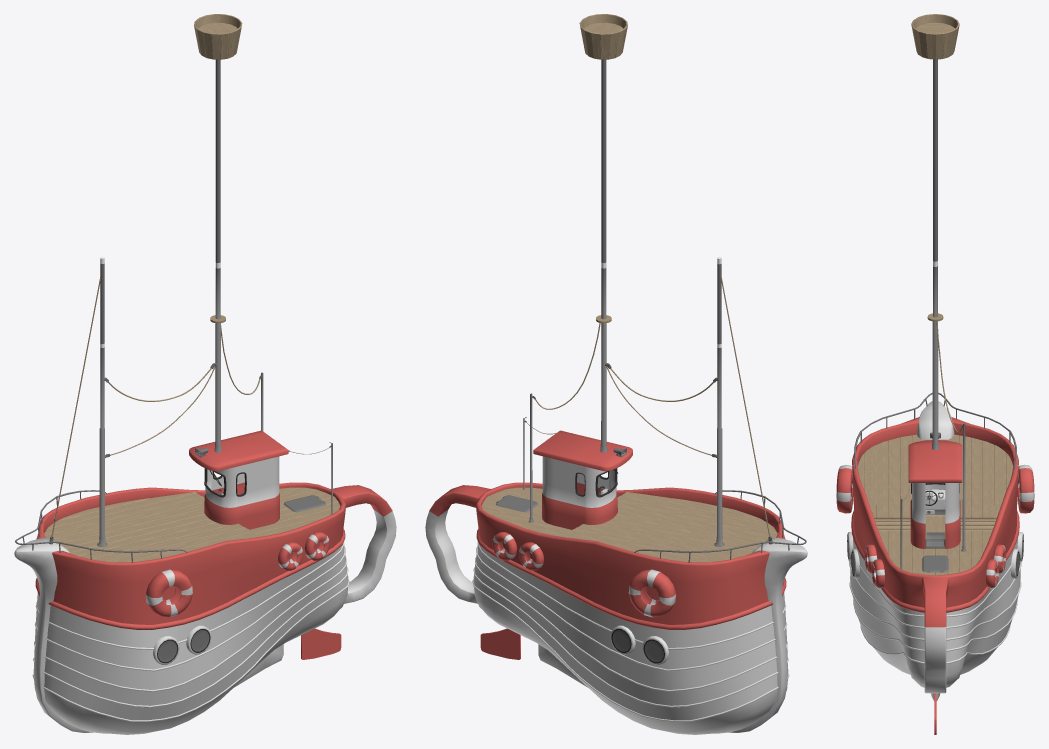
Rendered from Ship.glb.
The picture shows the model from 3 angles, left to right: view 1: azimuth 30°, elevation 25°; view 2: azimuth 150°, elevation 25°; view 3: azimuth 270°, elevation 25°; orthographic projection.
Parts seen in each view (by area): view 1: Ship.001; view 2: Ship.001; view 3: Ship.001.
Boxes of the visible parts, x1,y1,x2,y2 form: Ship.001: (14,14,396,734); Ship.001: (425,14,807,734); Ship.001: (836,14,1034,734).
Size of what is drawn, in the model's own units: 1778 by 3076 by 815.
6 materials, 1 textured.
